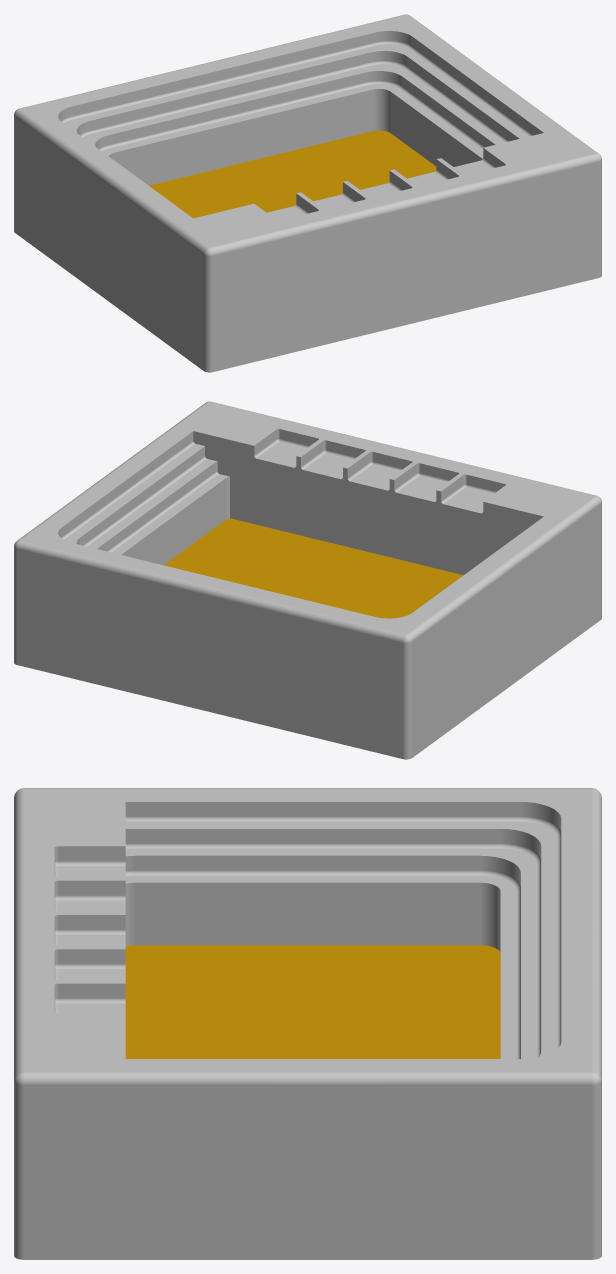
Rendered from YachtBox2.glb.
The picture shows the model from 3 angles, top to bottom: view 1: azimuth 30°, elevation 25°; view 2: azimuth 150°, elevation 25°; view 3: azimuth 270°, elevation 25°; orthographic projection. The views are drawn at different scales.
Visible parts, largest first — view 1: Body1, Body7; view 2: Body1, Body7; view 3: Body1, Body7.
Boxes of the visible parts, box(x1,y1,x2,y2) form: Body1: box(14, 14, 601, 372); Body7: box(149, 130, 436, 218); Body1: box(14, 401, 601, 759); Body7: box(164, 518, 463, 618); Body1: box(14, 788, 601, 1259); Body7: box(125, 945, 500, 1058).
Size of the model in its own units: 0.0085 by 0.0025 by 0.00725.
